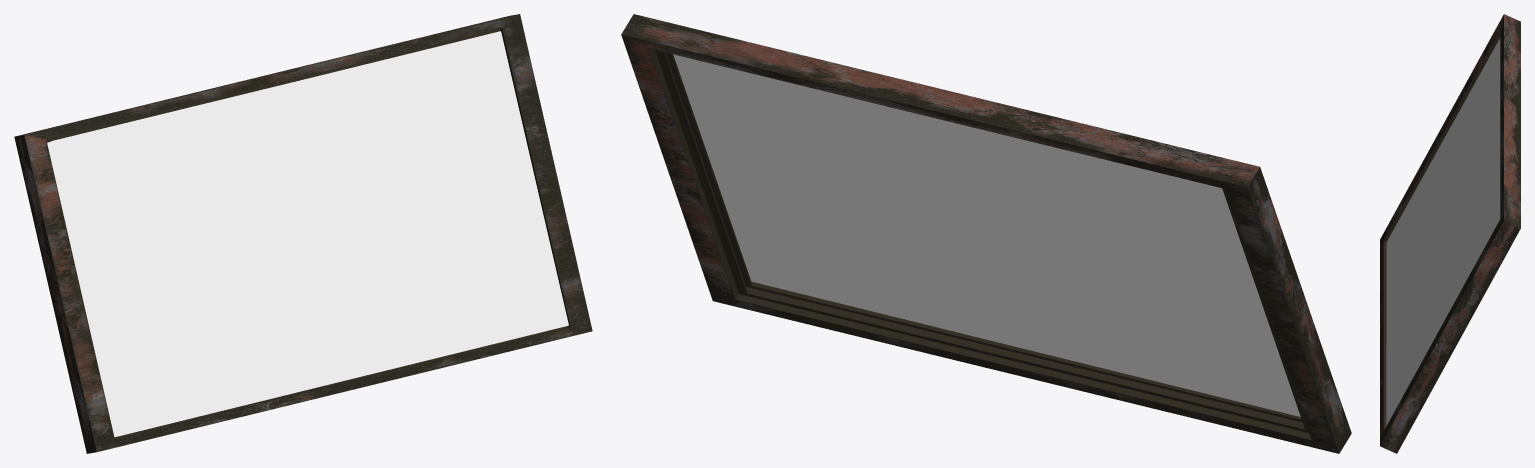
Rendered from screen.glb.
3 views of the same model, side by side, from view 1: azimuth 30°, elevation 25°; view 2: azimuth 150°, elevation 25°; view 3: azimuth 270°, elevation 25° (orthographic). The views are drawn at different scales.
Visible parts, largest first — view 1: display, f; view 2: display, f; view 3: display, f.
Part boxes in pixels (x1,y1,x2,y2): display: [47, 31, 568, 437]; f: [14, 14, 592, 453]; display: [673, 54, 1300, 416]; f: [621, 14, 1351, 453]; display: [1386, 38, 1500, 425]; f: [1380, 14, 1520, 453].
Bounding box in the file's own units: 0.7458 × 0.3926 × 0.215.
2 materials, 1 textured.
